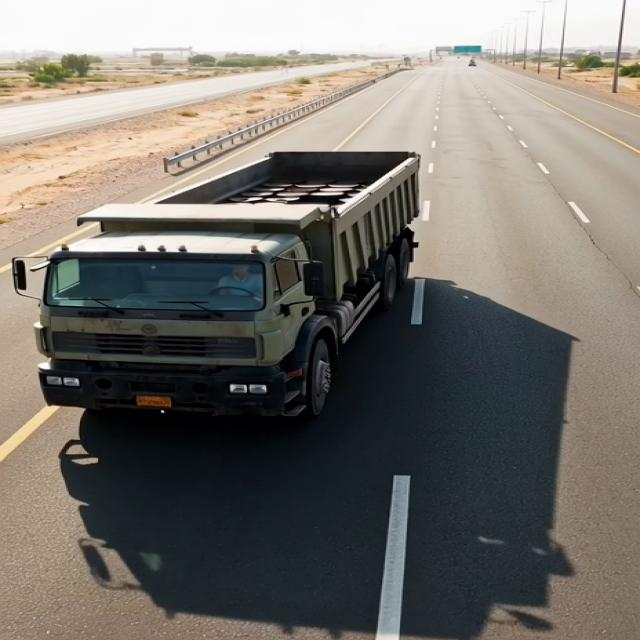trailer: (89, 154, 424, 225)
truck: (4, 146, 458, 421)
